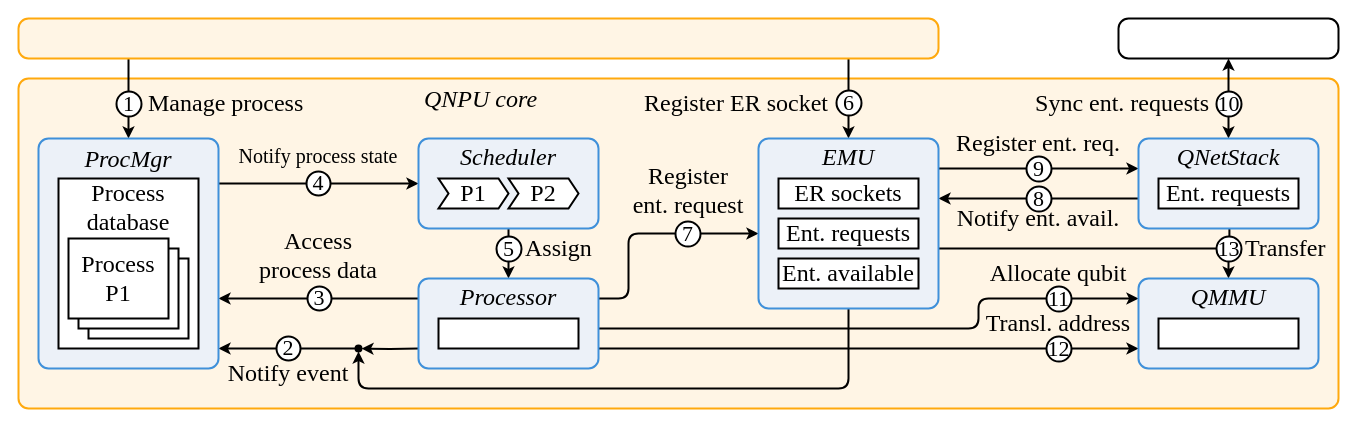
Image size: 1356x426. Some labels were removed from this diagram. Each missing label, with the centre of its shape:
Process data: pixel 508 333
QNPU API handler: pixel 478 38
QNPU peers: pixel 1228 38
Qubit map: pixel 1228 333
